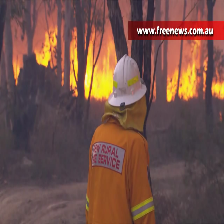fire_h: (69, 27, 115, 100), (165, 40, 207, 100), (34, 26, 59, 66), (211, 69, 224, 100)
fire_l: (12, 65, 21, 84), (151, 80, 157, 103), (61, 70, 64, 86)
